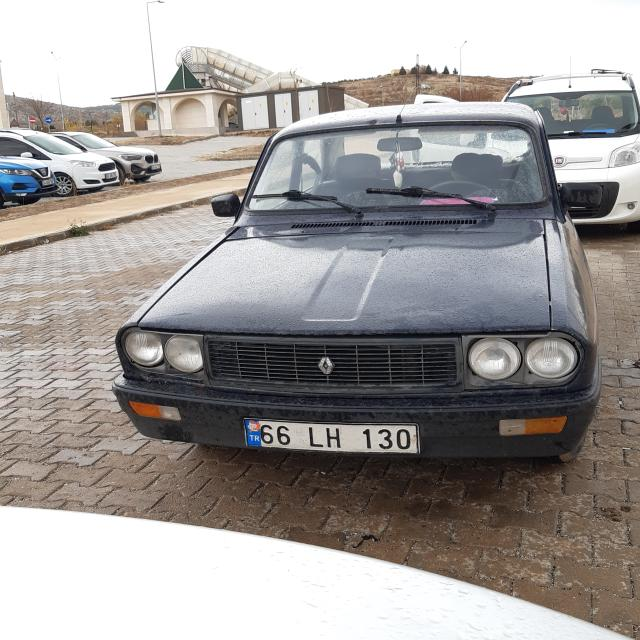license_plate: (242, 420, 421, 454)
